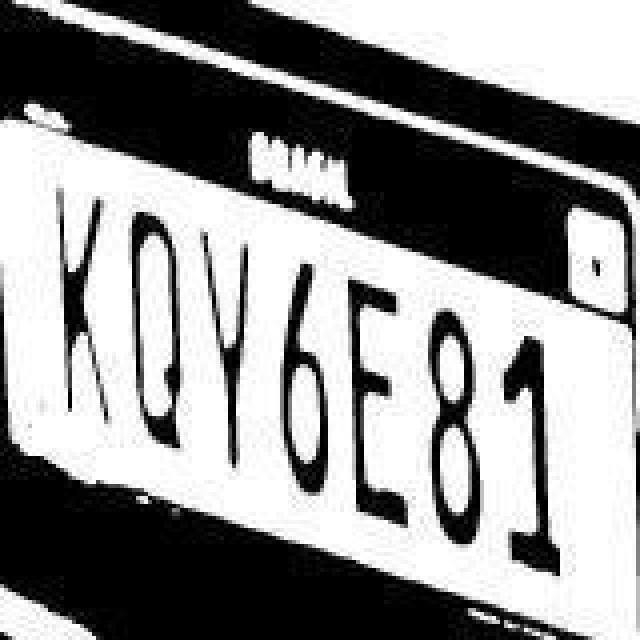1: (496, 328, 568, 584)
6: (274, 254, 334, 498)
8: (422, 304, 490, 552)
E: (340, 274, 412, 534)
K: (56, 174, 120, 434)
Q: (128, 202, 192, 454)
Y: (200, 224, 264, 480)
